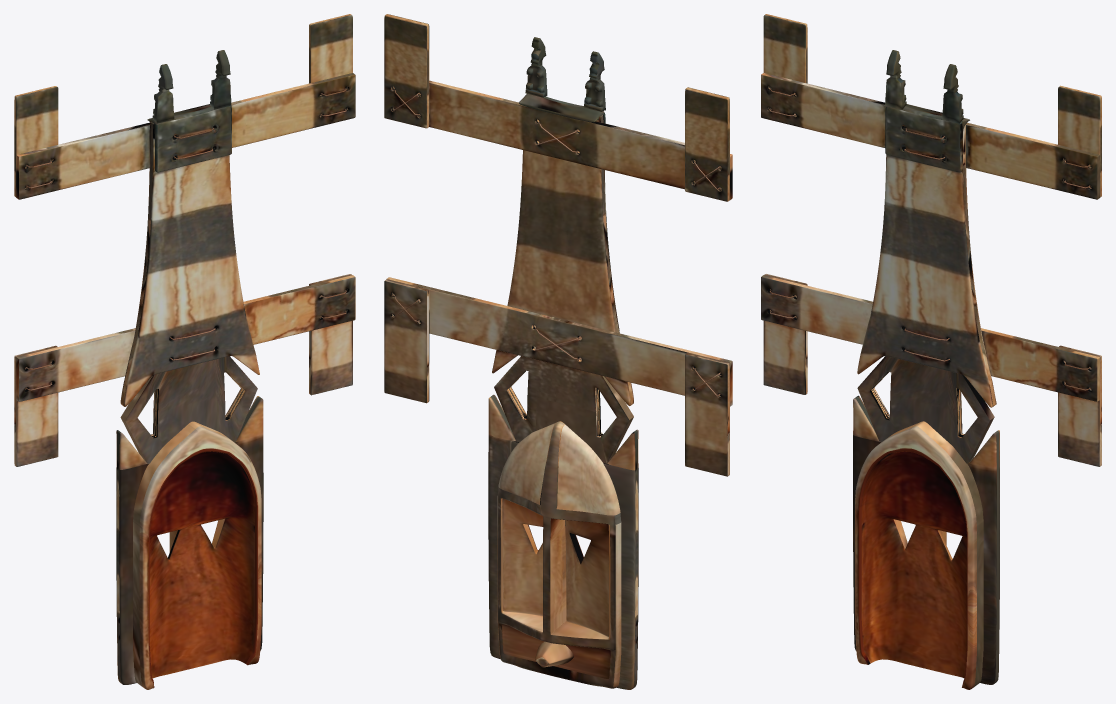
Rendered from VASANTHAN_ANTUNES-MasqueKANAGA.fbx.
3 renders of one model, left to right at view 1: azimuth 30°, elevation 25°; view 2: azimuth 150°, elevation 25°; view 3: azimuth 330°, elevation 25°, orthographic. The views are drawn at different scales.
Visible parts, largest first — view 1: Cube.008, Cube, Cube.007, Cube.006, Cube.001, Cube.002, Cube.003, Cube.004, Cube.011, Corde.001; view 2: Cube.008, Cube, Cube.006, Cube.007, Cube.002, Cube.003, Cube.001, Cube.011, Cube.004, Cube.009, Corde.001; view 3: Cube.008, Cube, Cube.007, Cube.006, Cube.001, Cube.002, Cube.003, Cube.004, Cube.011, Corde.001.
Part boxes in pixels (<box>): Cube.008: <box>133,421,261,689</box>; Cube: <box>116,121,263,684</box>; Cube.007: <box>16,73,355,199</box>; Cube.006: <box>16,275,355,401</box>; Cube.001: <box>120,356,257,463</box>; Cube.002: <box>14,274,352,466</box>; Cube.003: <box>14,14,352,197</box>; Cube.004: <box>147,104,231,172</box>; Cube.011: <box>152,50,231,123</box>; Corde.001: <box>26,88,346,360</box>; Cube.008: <box>497,421,621,688</box>; Cube: <box>488,114,638,689</box>; Cube.006: <box>387,277,732,406</box>; Cube.007: <box>392,80,732,199</box>; Cube.002: <box>384,279,729,476</box>; Cube.003: <box>384,14,729,201</box>; Cube.001: <box>494,356,633,463</box>; Cube.011: <box>525,37,605,111</box>; Cube.004: <box>519,94,605,123</box>; Cube.009: <box>535,641,573,667</box>; Corde.001: <box>393,88,720,359</box>; Cube.008: <box>855,421,983,689</box>; Cube: <box>853,124,999,684</box>; Cube.007: <box>761,73,1099,199</box>; Cube.006: <box>761,275,1099,401</box>; Cube.001: <box>857,356,994,463</box>; Cube.002: <box>763,274,1101,466</box>; Cube.003: <box>763,14,1101,197</box>; Cube.004: <box>885,104,969,172</box>; Cube.011: <box>885,50,963,123</box>; Corde.001: <box>769,88,1090,390</box>.
Bounding box in the file's own units: 203 × 352 × 35.18.
Materials: 2 (2 with a texture image).
